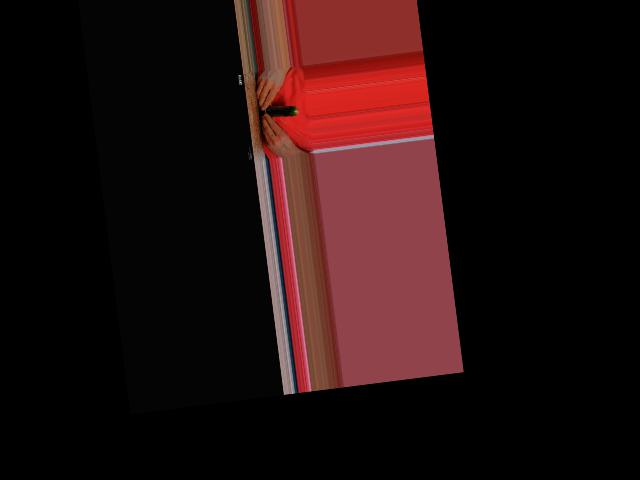cucumber: (258, 103, 298, 120)
